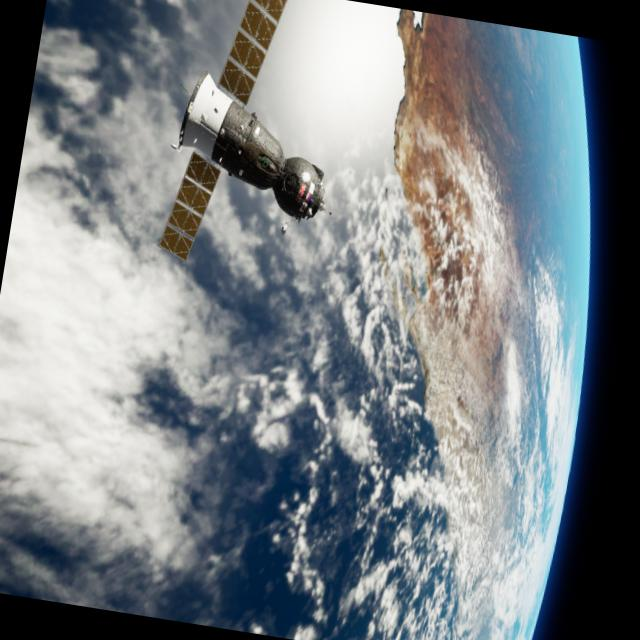Satellites revolving around earth: (152, 66, 350, 286)
